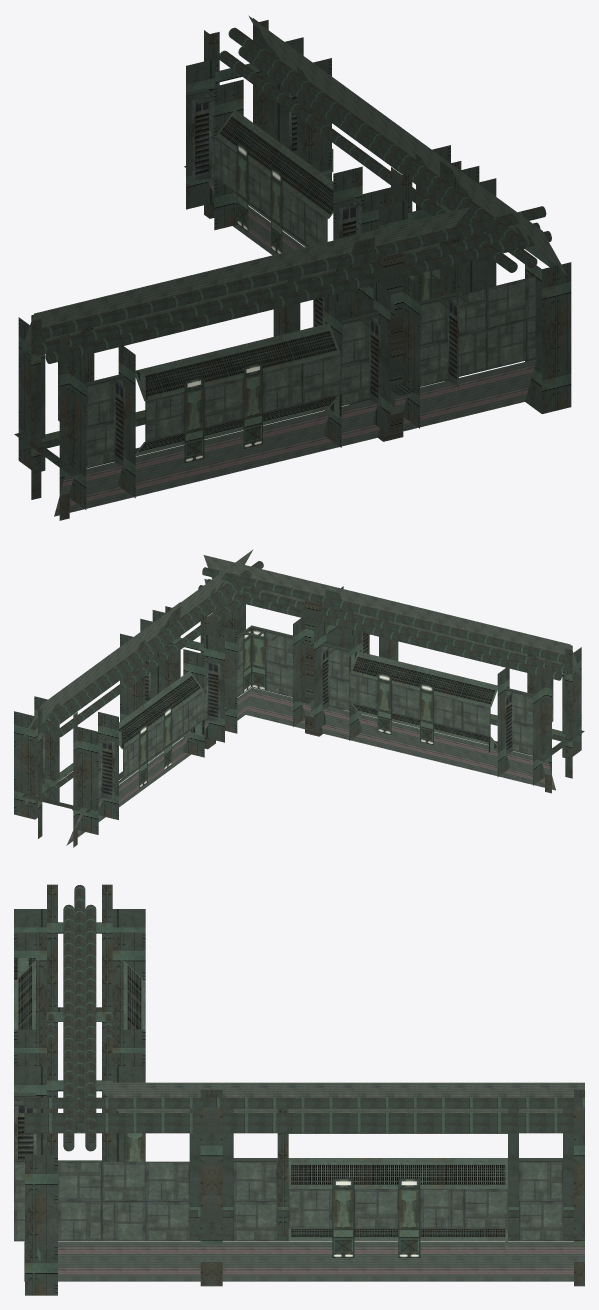
Rendered from corridor.glb.
3 renders of one model, top to bottom at view 1: azimuth 30°, elevation 25°; view 2: azimuth 150°, elevation 25°; view 3: azimuth 270°, elevation 25°, orthographic. The views are drawn at different scales.
Parts seen in each view (by area): view 1: Object_5, Object_3, Object_7, Object_8, Object_4, Object_6; view 2: Object_5, Object_3, Object_7, Object_8, Object_6, Object_4; view 3: Object_5, Object_3, Object_7, Object_4, Object_8, Object_6.
Part boxes in pixels (x1,y1,x2,y2): Object_5: (14, 18, 571, 520); Object_3: (86, 92, 535, 468); Object_7: (54, 178, 536, 516); Object_8: (20, 15, 567, 353); Object_4: (135, 109, 341, 456); Object_6: (58, 88, 469, 469); Object_5: (14, 561, 584, 847); Object_3: (98, 631, 532, 798); Object_7: (66, 687, 555, 845); Object_8: (24, 550, 580, 735); Object_6: (42, 625, 553, 800); Object_4: (119, 651, 497, 783); Object_5: (14, 884, 584, 1295); Object_3: (14, 1161, 562, 1241); Object_7: (24, 1241, 584, 1281); Object_4: (14, 958, 507, 1250); Object_8: (97, 1082, 584, 1112); Object_6: (14, 1093, 562, 1257).
Size of the model in its own units: 4.53 by 1.57 by 4.44.
7 materials, 7 textured.
